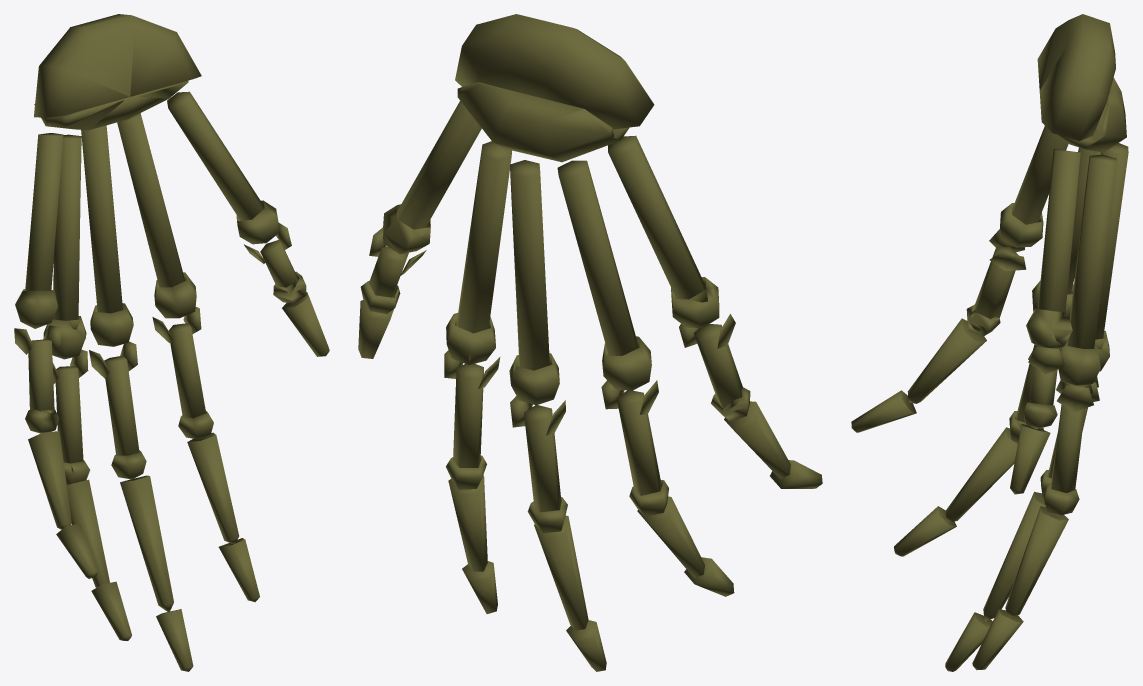
The model's file is main_left.obj.
The picture shows the model from 3 angles, left to right: view 1: azimuth 30°, elevation 25°; view 2: azimuth 150°, elevation 25°; view 3: azimuth 270°, elevation 25°; orthographic projection. The views are drawn at different scales.
Parts seen in each view (by area): view 1: LHAND01_LHAND01_WHITE_BONE; view 2: LHAND01_LHAND01_WHITE_BONE; view 3: LHAND01_LHAND01_WHITE_BONE.
Part boxes in pixels (x1=…): LHAND01_LHAND01_WHITE_BONE: x1=14, y1=14, x2=329, y2=671; LHAND01_LHAND01_WHITE_BONE: x1=358, y1=14, x2=822, y2=671; LHAND01_LHAND01_WHITE_BONE: x1=851, y1=14, x2=1128, y2=671.
Size of the model in its own units: 4.41 by 7.89 by 3.11.
